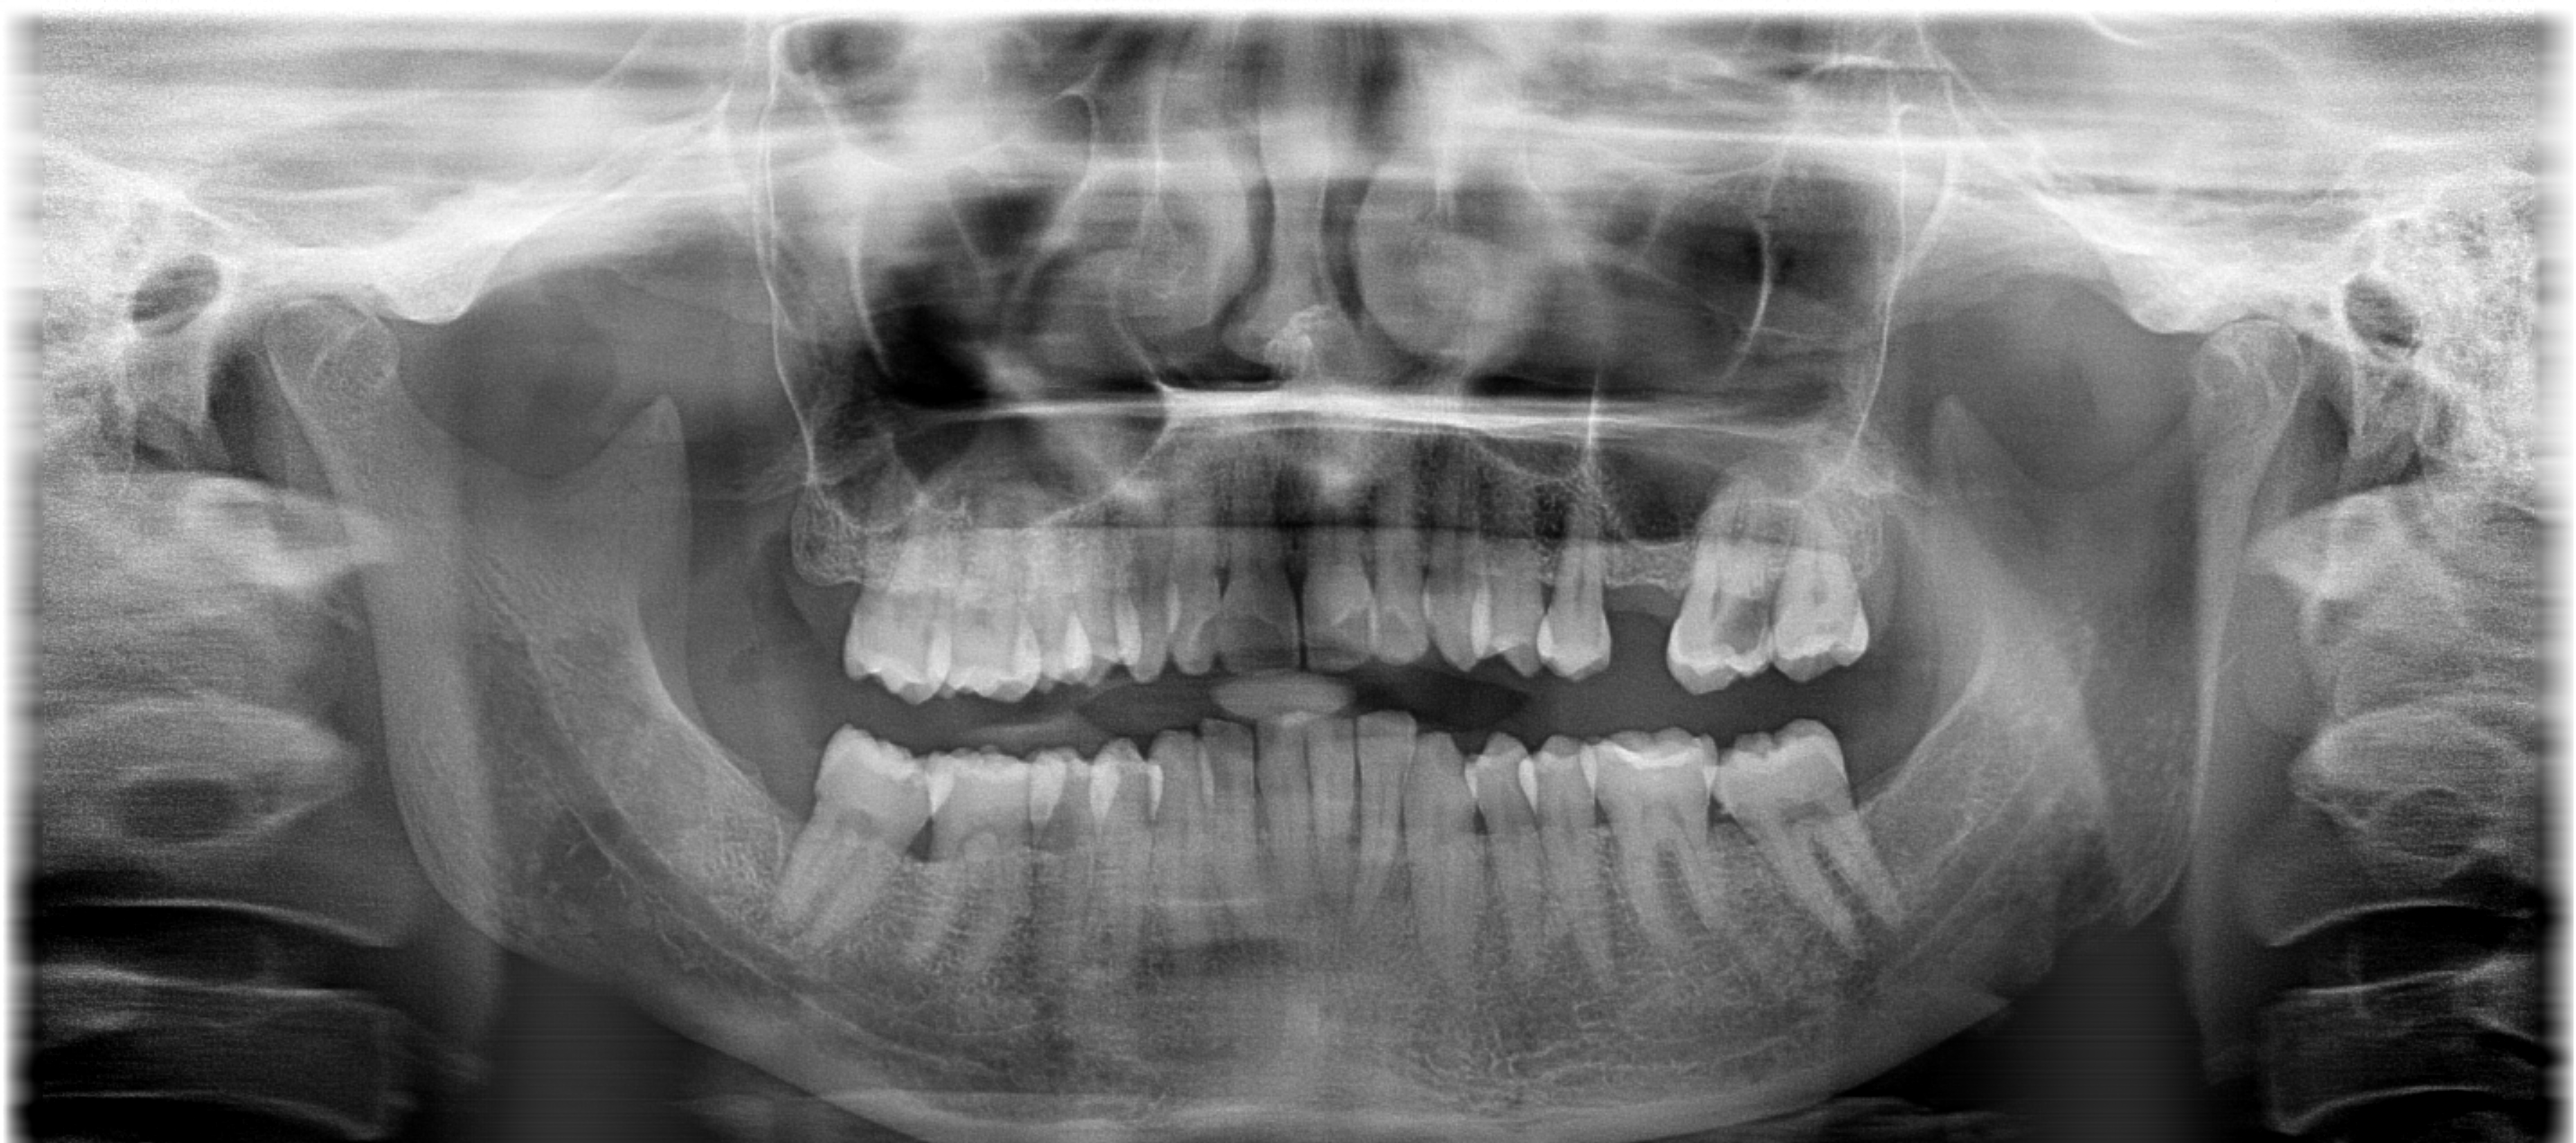cordal: (1756, 476, 1912, 693)
zona_dentula: (1574, 448, 1709, 696)
